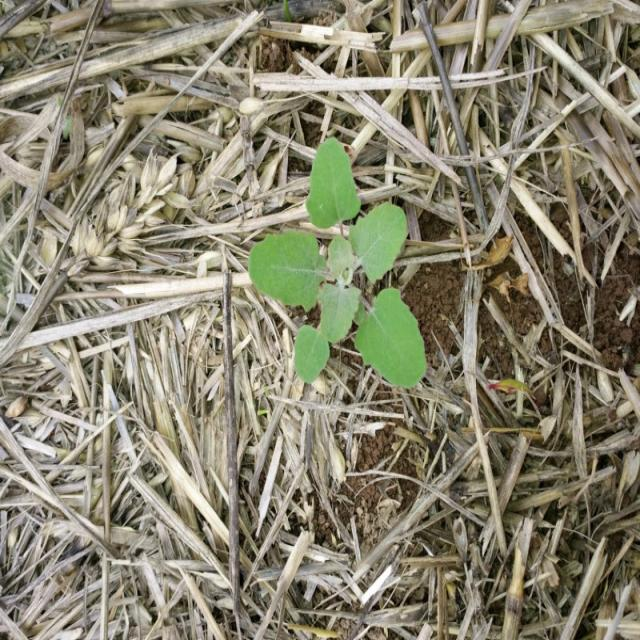ca: (247, 139, 428, 392)
